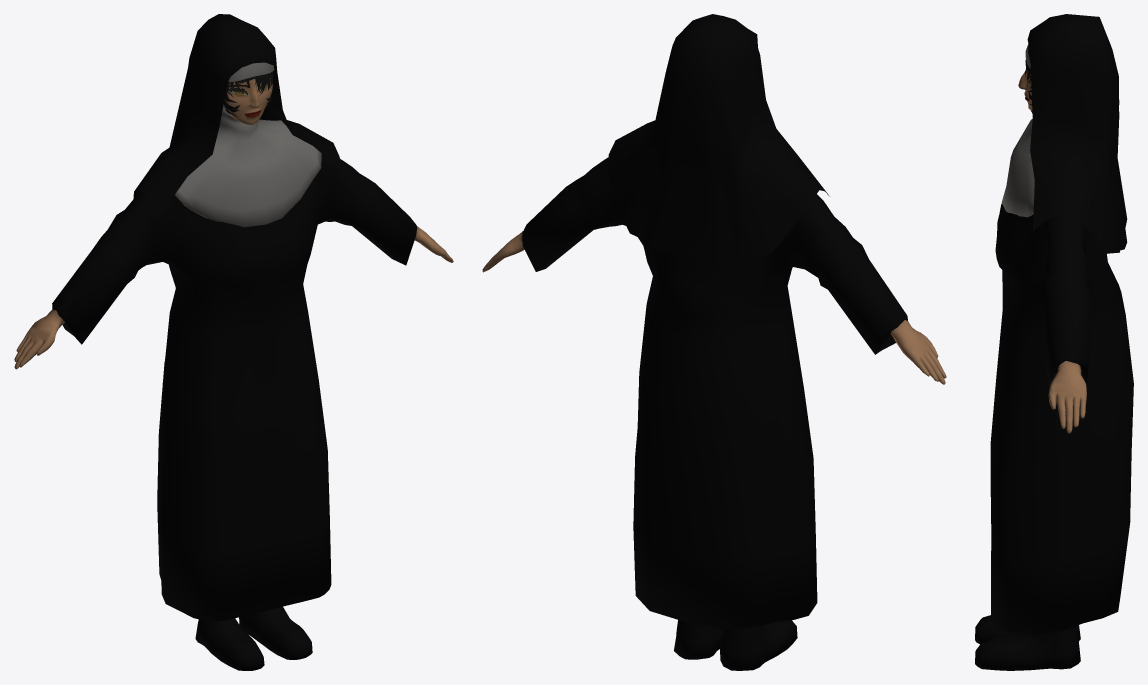
File: nun.glb
3 renders of one model, left to right at view 1: azimuth 30°, elevation 25°; view 2: azimuth 150°, elevation 25°; view 3: azimuth 270°, elevation 25°, orthographic. The views are drawn at different scales.
Visible parts, largest first — view 1: Torso, habit, Head, Hair; view 2: Torso, habit; view 3: Torso, habit, Head.
Boxes of the visible parts, box(x1,y1,x2,y2) form: Torso: box(14, 62, 453, 670); habit: box(133, 14, 344, 218); Head: box(224, 77, 272, 124); Hair: box(224, 72, 273, 117); Torso: box(482, 157, 946, 670); habit: box(608, 14, 829, 264); Torso: box(975, 44, 1133, 670); habit: box(1027, 14, 1127, 253); Head: box(1018, 70, 1032, 110).
Bounding box in the file's own units: 7.91 × 10.5 × 2.39.
Materials: 3 (1 with a texture image).
